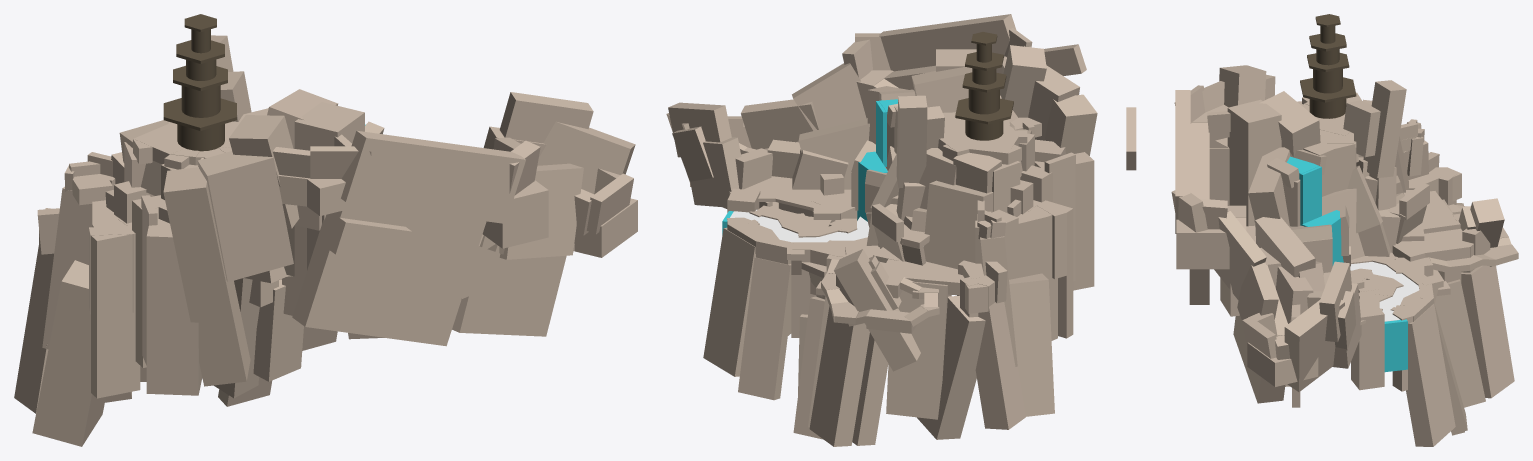
The model's file is p_DeadEnd.fbx.
The picture shows the model from 3 angles, left to right: view 1: azimuth 30°, elevation 25°; view 2: azimuth 150°, elevation 25°; view 3: azimuth 270°, elevation 25°; orthographic projection. The views are drawn at different scales.
Visible parts, largest first — view 1: SmellRamp_1__46_, Wall_Smell__129_, Wall_Smell__17_, Wall_Smell__39__1, Wall_Smell__10_, Wall_Smell__59_, Wall_Smell__67_, SmellRamp_1__58_, Wall_Smell__152_, Wall_Smell__127_, Wall_Smell__94_, Wall_Smell__124_ (+33 smaller); view 2: Wall_Smell__42_, Wall_Smell__50_, Wall_Smell__10_, Wall_Smell__46_, Wall_Smell__20_, Wall_Smell__11_, Wall_Smell__94_, Wall_Smell__5_, Wall_Smell__129_, Wall_Smell__82_, Wall_Smell__128_, Wall_Smell__127_ (+64 smaller); view 3: Wall_Smell__20_, Wall_Smell__50_, Wall_Smell__156_, Wall_Smell__51_, Wall_Smell__152_, Wall_Smell__80_, Wall_Smell__106_, SmellRamp_1__46_, SmellRamp_1__54_, Wall_Smell__43_, Wall_Smell__81_, Wall_Smell__128_ (+55 smaller).
Part boxes in pixels (<box>): SmellRamp_1__46_: <box>292,204,486,346</box>; Wall_Smell__129_: <box>341,130,525,223</box>; Wall_Smell__17_: <box>163,167,250,386</box>; Wall_Smell__39__1: <box>197,151,293,282</box>; Wall_Smell__10_: <box>32,260,105,446</box>; Wall_Smell__59_: <box>146,208,202,395</box>; Wall_Smell__67_: <box>91,232,140,398</box>; SmellRamp_1__58_: <box>452,253,566,336</box>; Wall_Smell__152_: <box>537,122,635,193</box>; Wall_Smell__127_: <box>499,163,583,259</box>; Wall_Smell__94_: <box>14,244,53,413</box>; Wall_Smell__124_: <box>253,279,303,381</box>; Wall_Smell__42_: <box>738,257,791,400</box>; Wall_Smell__50_: <box>809,306,869,446</box>; Wall_Smell__10_: <box>1009,273,1054,416</box>; Wall_Smell__46_: <box>886,281,951,419</box>; Wall_Smell__20_: <box>703,227,755,376</box>; Wall_Smell__11_: <box>917,296,985,439</box>; Wall_Smell__94_: <box>975,302,1025,429</box>; Wall_Smell__5_: <box>923,180,993,269</box>; Wall_Smell__129_: <box>879,14,1016,71</box>; Wall_Smell__82_: <box>834,249,920,371</box>; Wall_Smell__128_: <box>792,63,866,130</box>; Wall_Smell__127_: <box>741,99,818,149</box>; Wall_Smell__20_: <box>1406,304,1455,446</box>; Wall_Smell__50_: <box>1461,265,1514,398</box>; Wall_Smell__156_: <box>1227,99,1281,226</box>; Wall_Smell__51_: <box>1434,279,1485,407</box>; Wall_Smell__152_: <box>1284,300,1344,391</box>; Wall_Smell__80_: <box>1363,80,1406,177</box>; Wall_Smell__106_: <box>1351,303,1384,390</box>; SmellRamp_1__46_: <box>1189,122,1209,304</box>; SmellRamp_1__54_: <box>1176,219,1229,269</box>; Wall_Smell__43_: <box>1255,217,1315,277</box>; Wall_Smell__81_: <box>1248,147,1290,226</box>; Wall_Smell__128_: <box>1214,211,1266,300</box>.
Size of the model in its own units: 7238 by 5960 by 5887.
